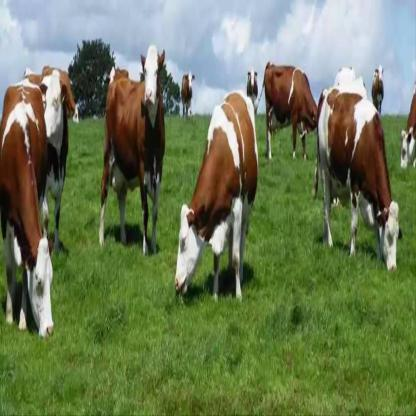cow: (175, 92, 258, 301), (318, 88, 398, 272), (99, 46, 166, 256), (0, 82, 54, 338), (25, 72, 68, 254), (265, 64, 319, 160), (43, 66, 79, 122), (401, 83, 416, 167), (371, 66, 384, 114), (181, 73, 195, 116), (246, 72, 258, 112)
